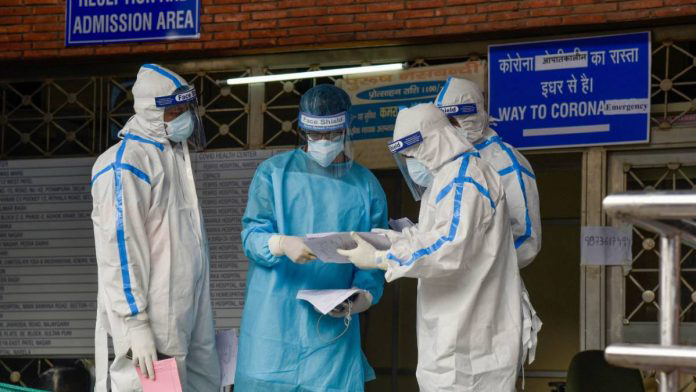Coverall: (240, 82, 391, 392), (86, 61, 220, 392), (385, 107, 530, 392)
Gloves: (124, 317, 162, 384), (334, 231, 389, 272), (265, 230, 316, 266)
with_mask: (306, 131, 347, 167), (162, 106, 196, 146), (402, 153, 438, 189)
